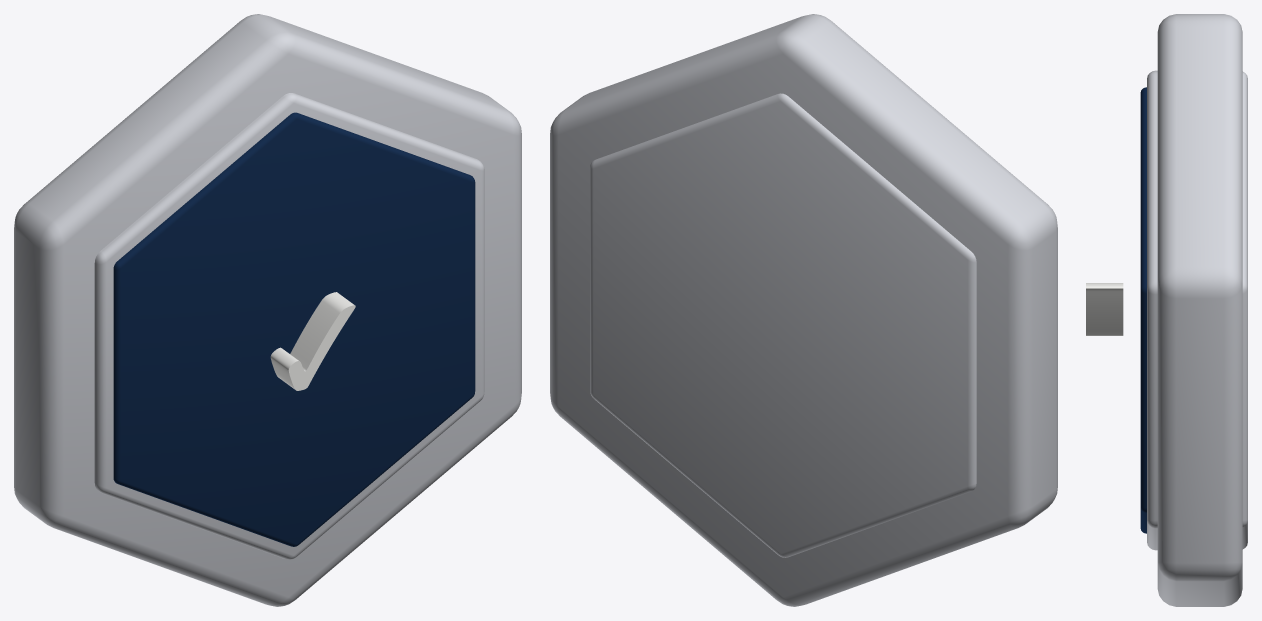
The model's file is disciplined-7.glb.
3 renders of one model, left to right at view 1: azimuth 30°, elevation 25°; view 2: azimuth 150°, elevation 25°; view 3: azimuth 270°, elevation 25°, orthographic. The views are drawn at different scales.
Visible parts, largest first — view 1: panel, frame, ring, Text; view 2: ring, frame; view 3: frame, ring, panel, Text.
Part boxes in pixels (x1,y1,x2,y2): panel: (113, 112, 475, 546); frame: (14, 14, 521, 606); ring: (94, 93, 484, 559); Text: (270, 292, 355, 390); ring: (590, 93, 976, 557); frame: (550, 14, 1057, 606); frame: (1157, 14, 1242, 606); ring: (1147, 70, 1247, 550); panel: (1140, 87, 1146, 533); Text: (1086, 283, 1123, 335).
Size of the model in its own units: 1.07 by 1.22 by 0.305.
